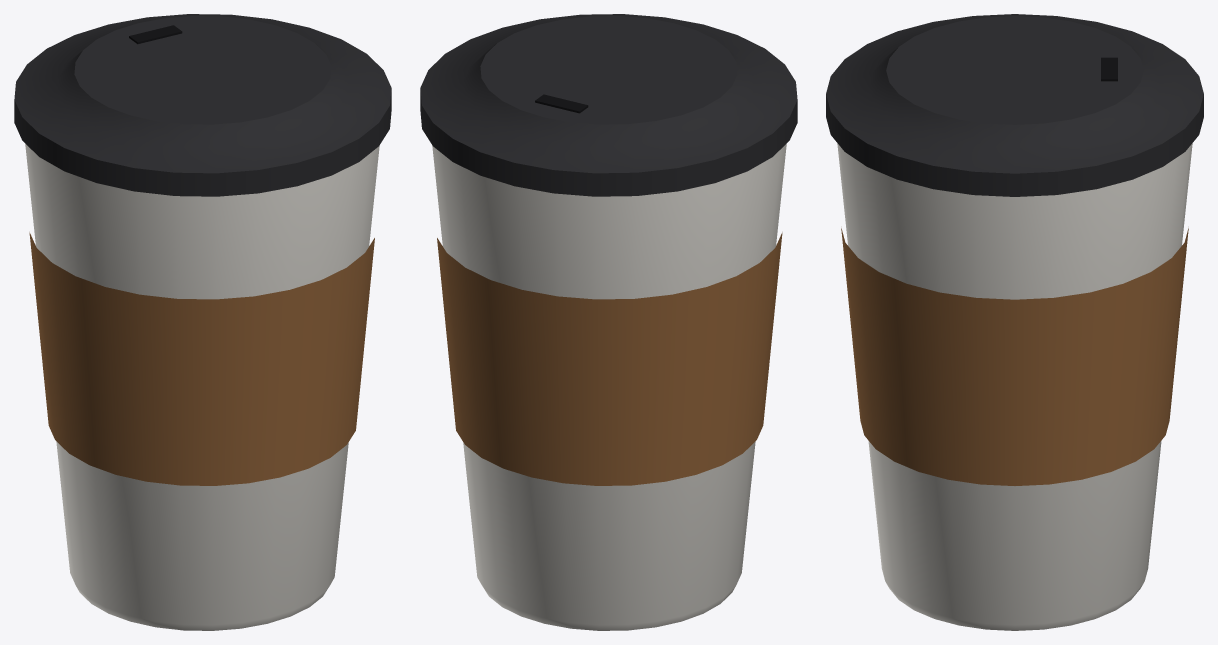
File: paper_cup.glb
The picture shows the model from 3 angles, left to right: view 1: azimuth 30°, elevation 25°; view 2: azimuth 150°, elevation 25°; view 3: azimuth 270°, elevation 25°; orthographic projection.
Parts seen in each view (by area): view 1: paper_cup; view 2: paper_cup; view 3: paper_cup.
Boxes of the visible parts, x1,y1,x2,y2 form: paper_cup: [14, 14, 391, 630]; paper_cup: [420, 14, 797, 630]; paper_cup: [826, 14, 1203, 630].
Bounding box in the file's own units: 0.0877 × 0.13 × 0.0877.
